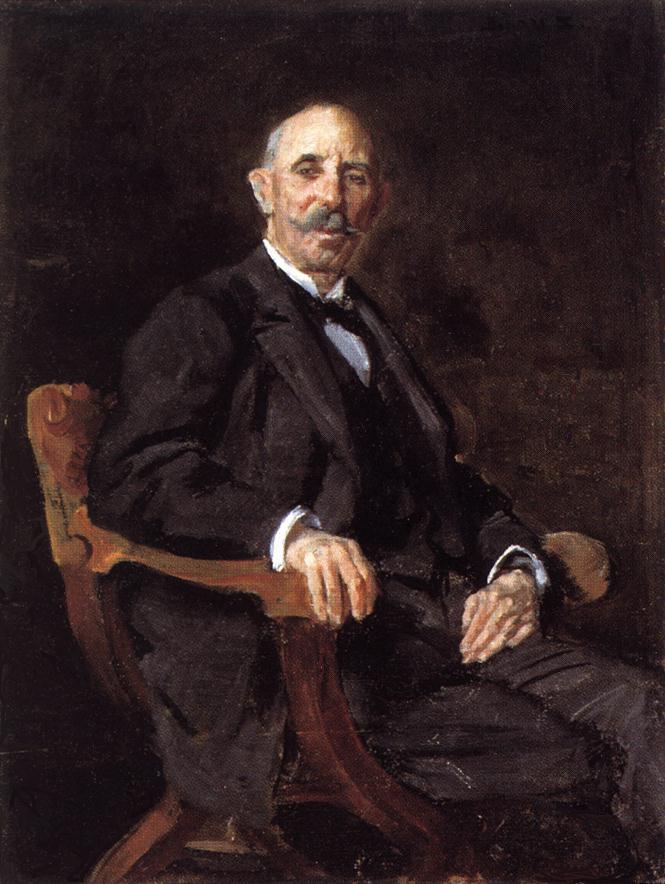chairs: (18, 374, 640, 884)
